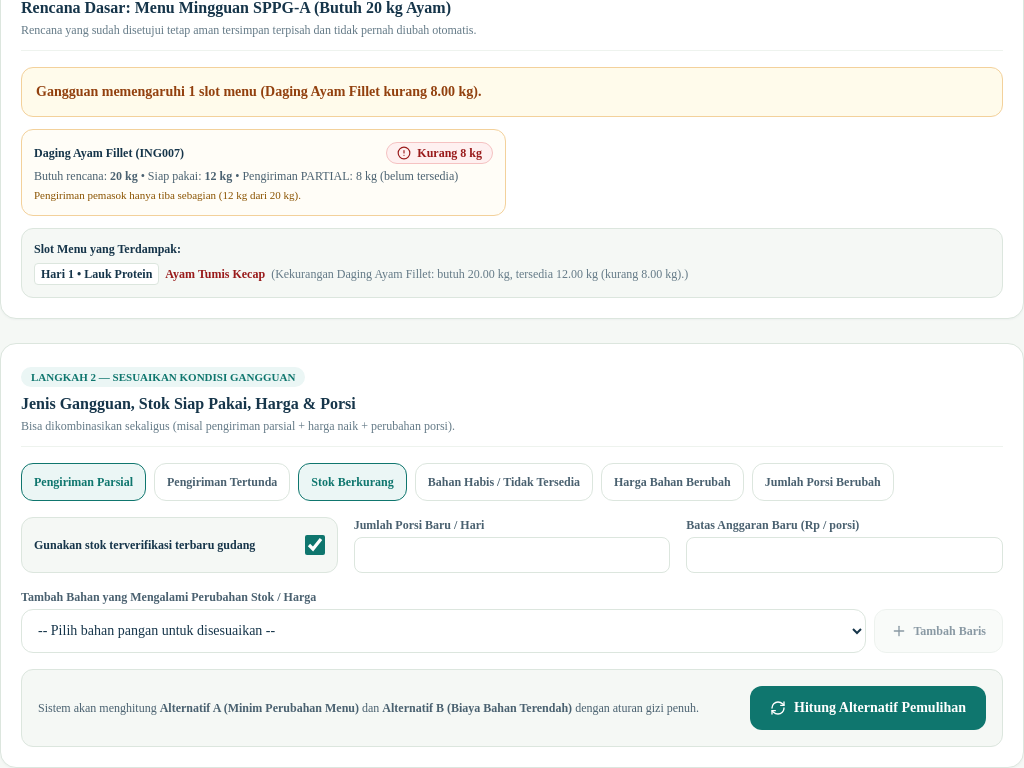
it: Sprint 3B — Procurement Recovery UI Contracts › renders partial chicken shortage impact, Alternative A vs B, fair guardrail, and submits replacement proposal
(page scrolled)
expect the text "Ayam Tumis Kecap" is shown: met, box [165,266,265,282]
Click the button with test id "btn-compute-recovery" at (868, 708), box [750,686,986,730]
(page scrolled)
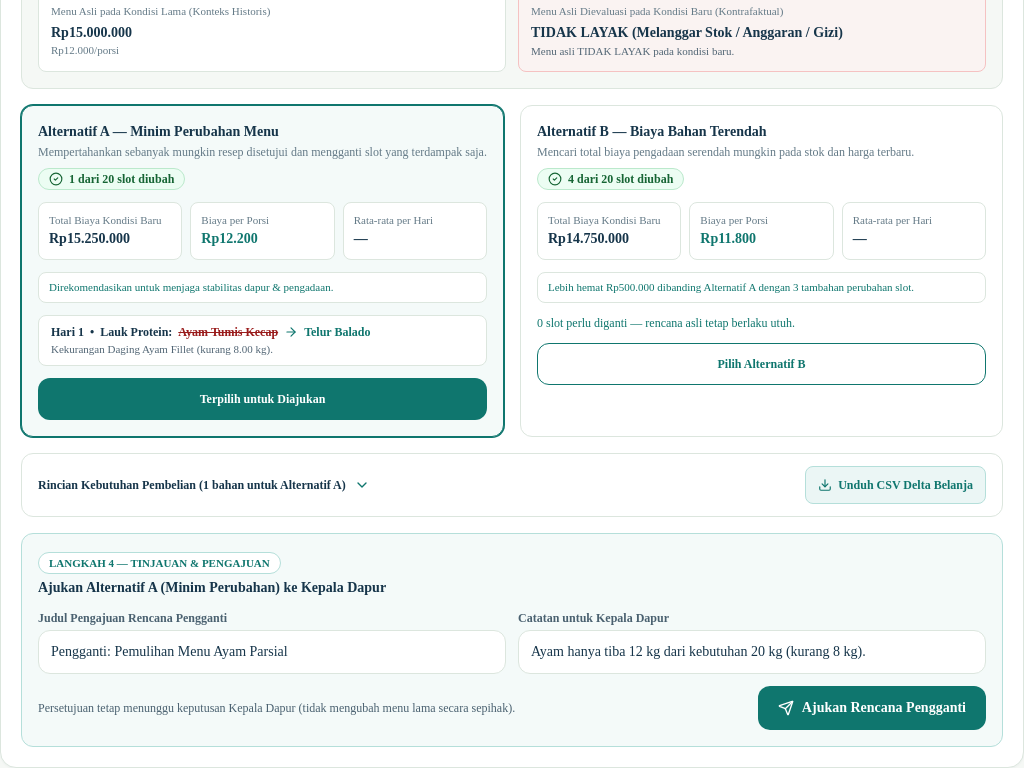
expect the heading "Alternatif A — Minim Perubahan Menu" is shown: met, box [38,124,279,139]
expect the heading "Alternatif B — Biaya Bahan Terendah" is shown: met, box [537,124,767,139]
Click the button with test id "btn-submit-recovery" at (872, 708), box [758,686,986,730]
(page scrolled)
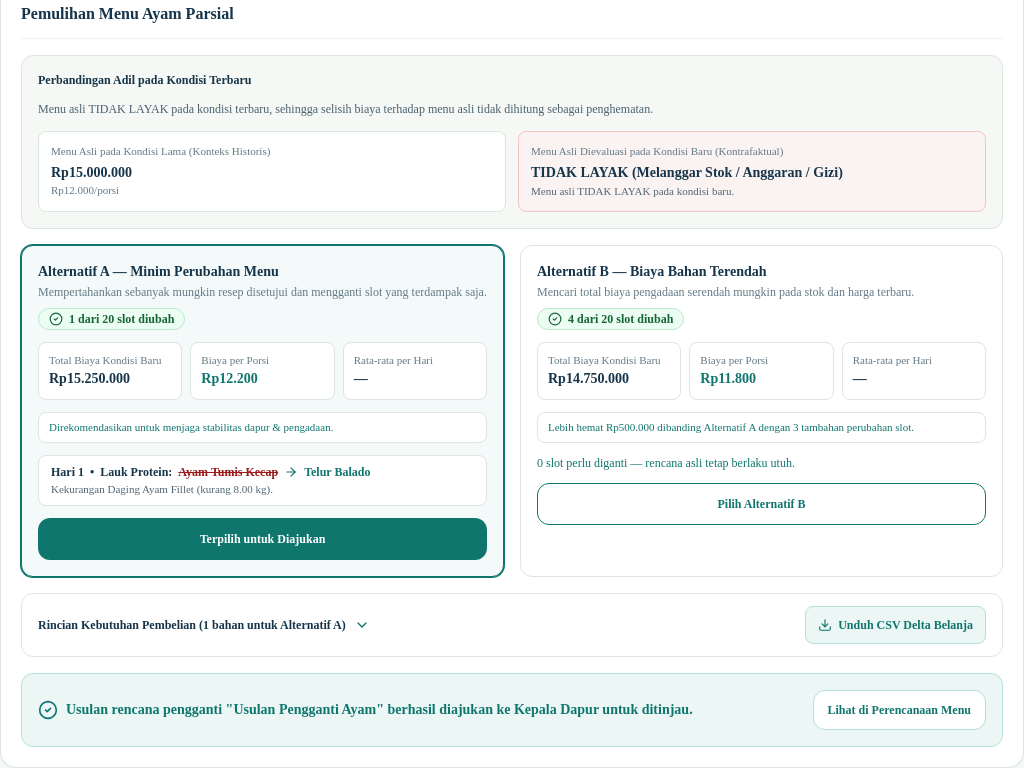
expect the text "berhasil diajukan ke Kepala Dapur" is shown: met, box [66,702,693,717]
